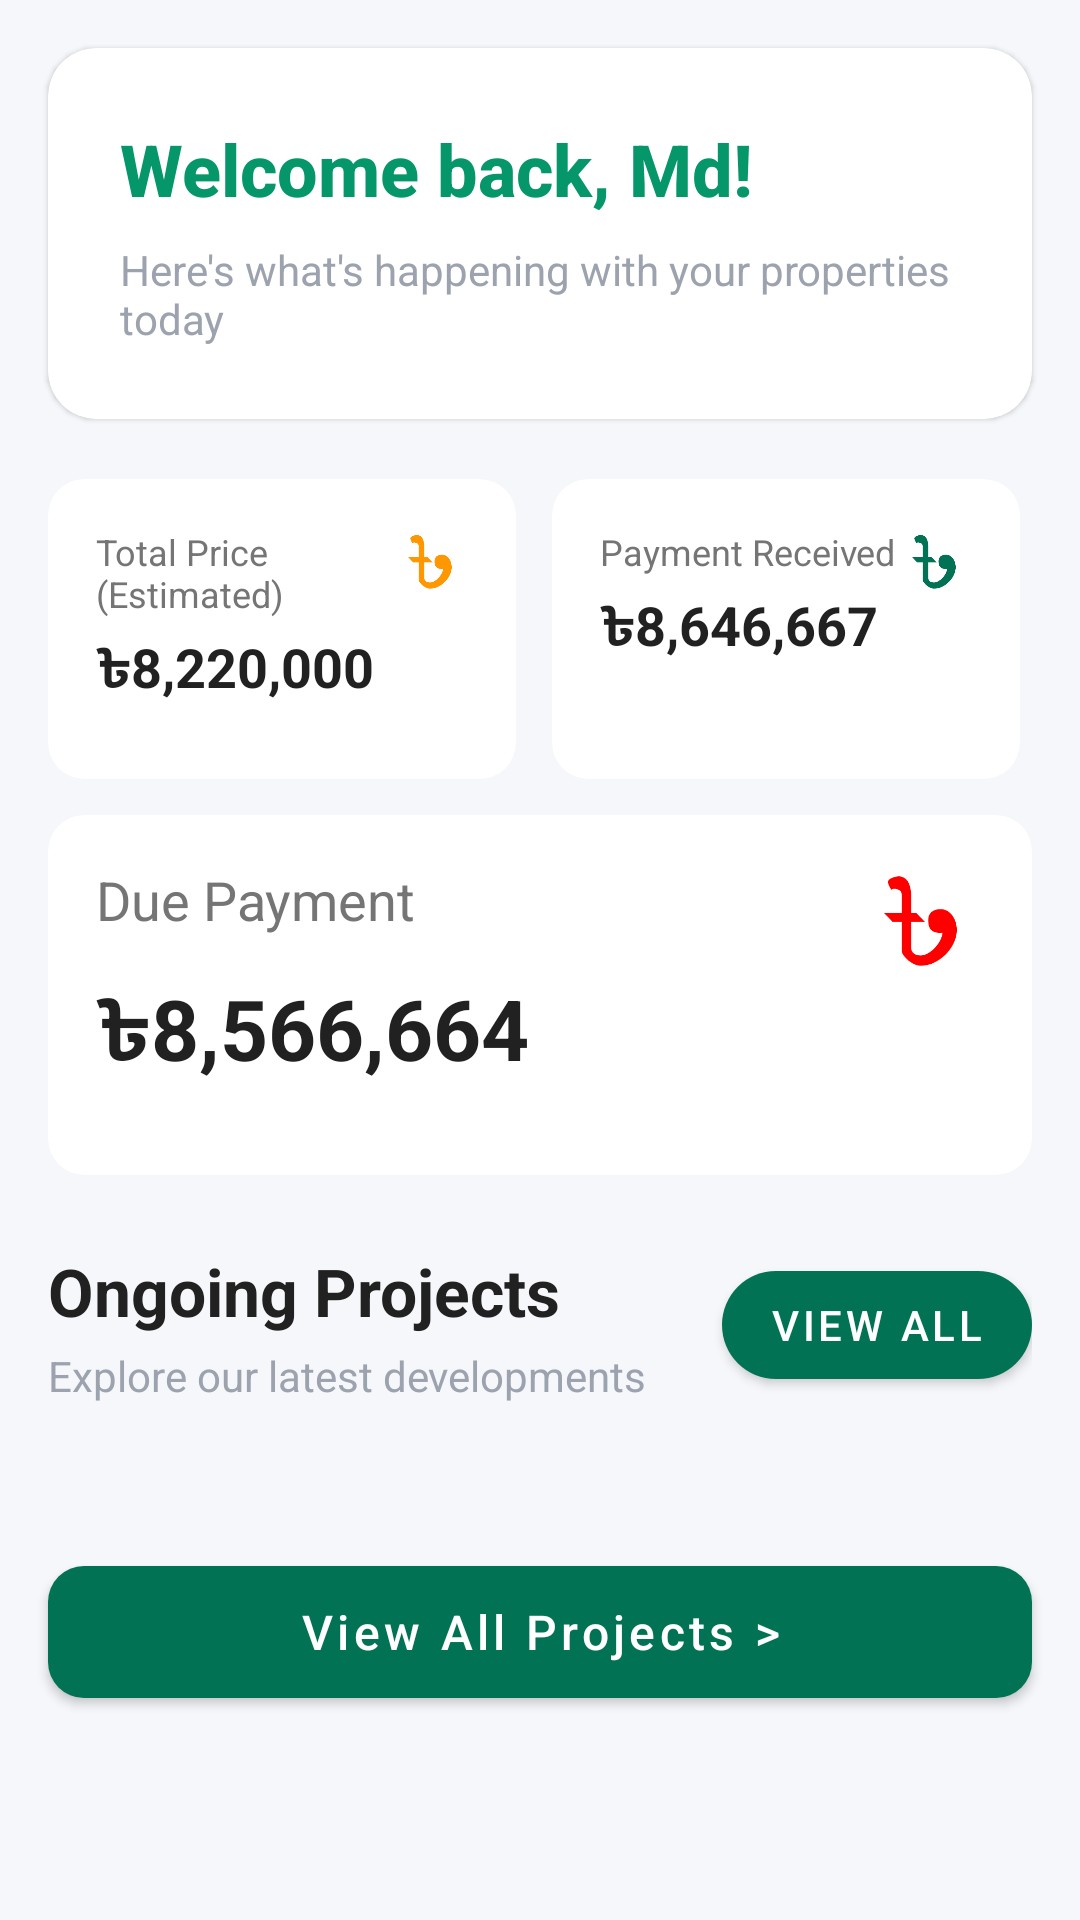

Screen size 1080w x 1920h. Icon name, then its center in pixels as [x,y]:
money: [430,562], [934,562], [920,921]
